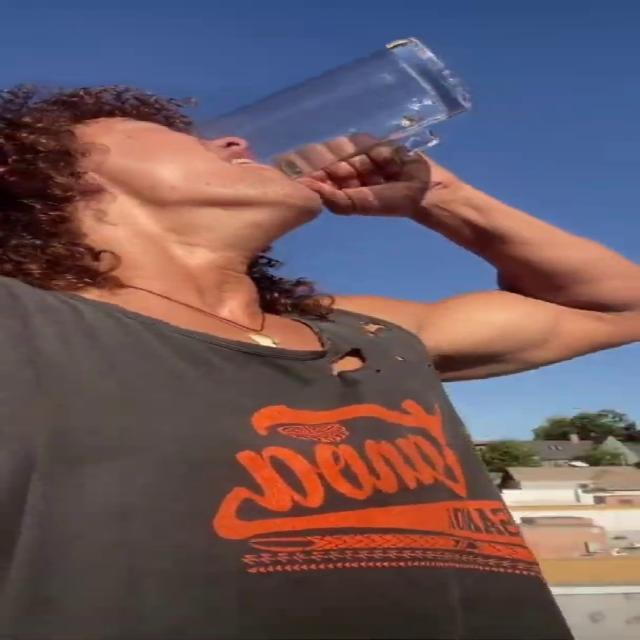Cup: (190, 36, 472, 182)
Hand: (268, 136, 451, 218)
Mouth: (211, 151, 272, 174)
